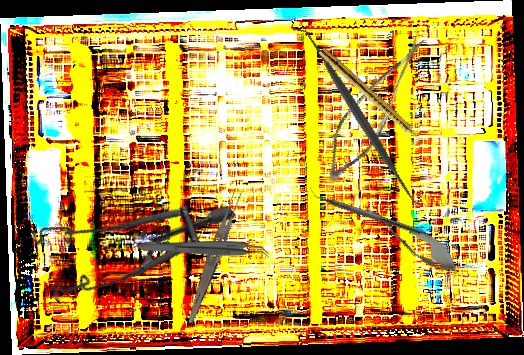Chopper: (305, 184, 425, 236)
Dressing Forceps: (184, 185, 246, 328)
Handpiece: (316, 46, 427, 148)
Micro Scissor: (319, 19, 426, 193), (356, 194, 468, 283)
Spatula Surgical: (290, 16, 428, 216)
Speculum: (9, 120, 237, 347)
Tissue Forceps: (137, 241, 270, 258)
